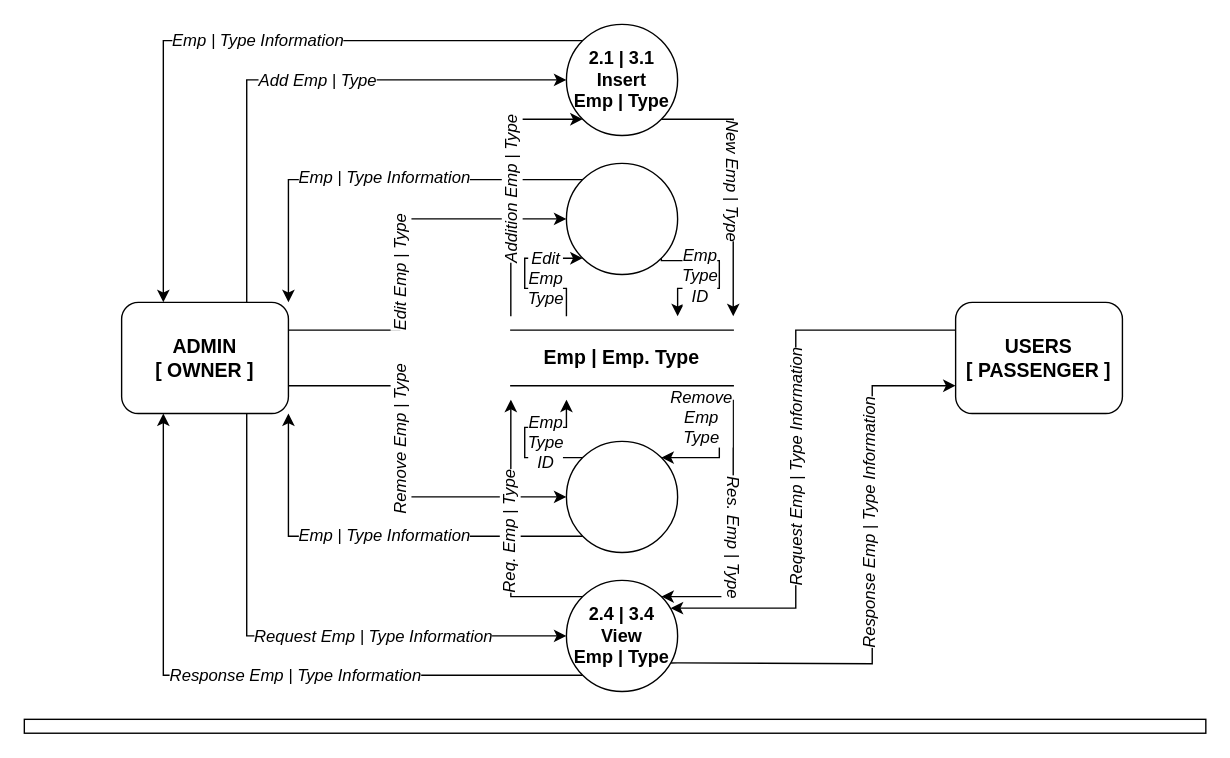
Some shapes in this 1230 by 758 pixel diagram are drawn without their labels. The shapes that lost their labels are listed below. From the top down, each one's centre as x and y in pixels, then its label:
[621,218]: 2.2 | 3.2 Update Emp | Type
[621,496]: 2.3 | 3.3 Delete Emp | Type
